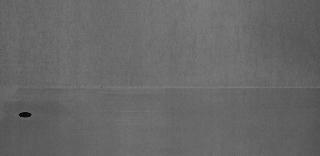punching hole: (16, 110, 34, 120)
welding line: (1, 83, 320, 93)
